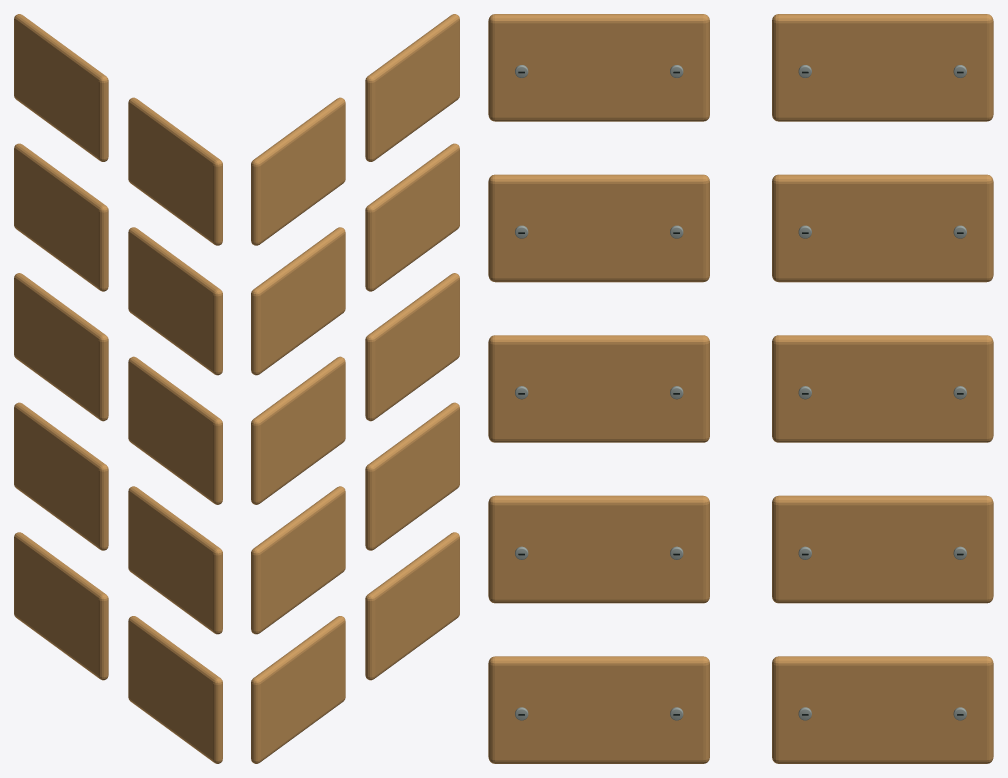
File: SM_Charger_Contacts.fbx
The picture shows the model from 3 angles, left to right: view 1: azimuth 30°, elevation 25°; view 2: azimuth 150°, elevation 25°; view 3: azimuth 270°, elevation 25°; orthographic projection. The views are drawn at different scales.
Visible parts, largest first — view 1: SM_Charger_Contacts.001; view 2: SM_Charger_Contacts.001; view 3: SM_Charger_Contacts.001.
Part boxes in pixels (bbox=[...]): SM_Charger_Contacts.001: bbox=[14, 14, 222, 763]; SM_Charger_Contacts.001: bbox=[251, 14, 459, 763]; SM_Charger_Contacts.001: bbox=[488, 14, 993, 763].
Size of the model in its own units: 0.0083 by 0.228 by 0.373.
